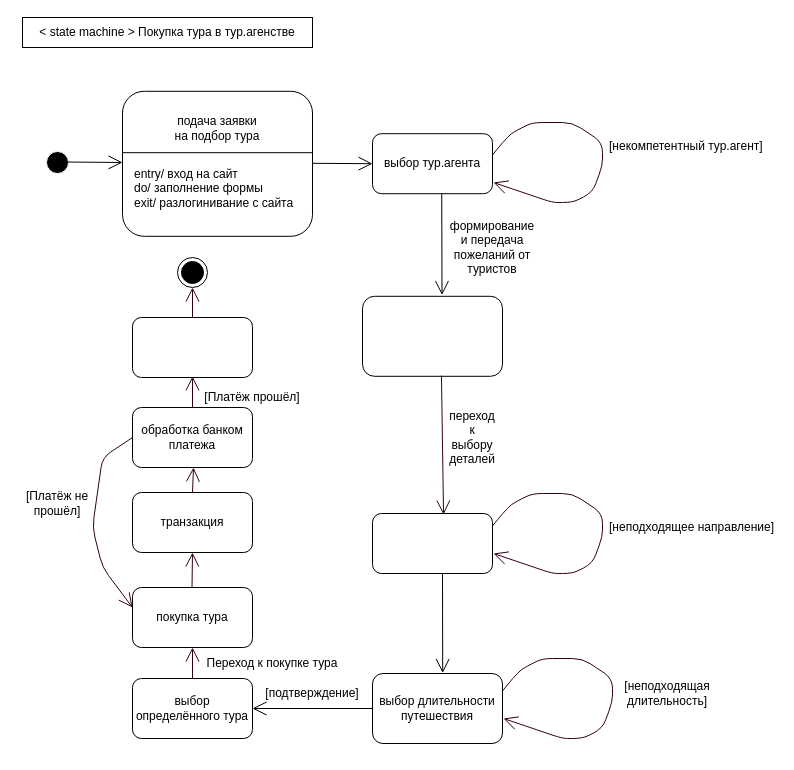
Some shapes in this 794 by 770 pixel diagram are drawn without their labels. Here are the shapes that lost their labels. From the top down, the centre of each, then its label:
point (192, 347): Отправка тур.агентом пакета документов, входящих в тур
point (432, 335): обработка тур.агентом поступивших от туристов пожеланий
point (432, 543): выбор направления путешествия
